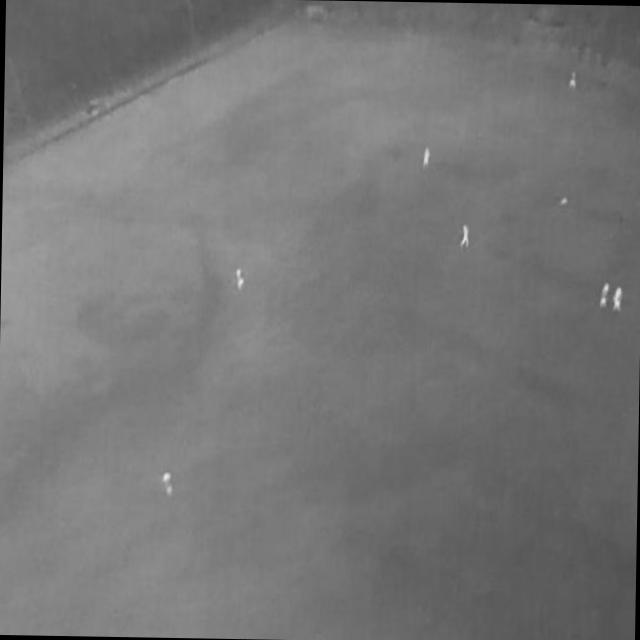person: (162, 472, 173, 500), (599, 285, 610, 311), (612, 287, 622, 313), (460, 225, 470, 249), (234, 267, 244, 291), (568, 68, 577, 91), (422, 149, 430, 170)
